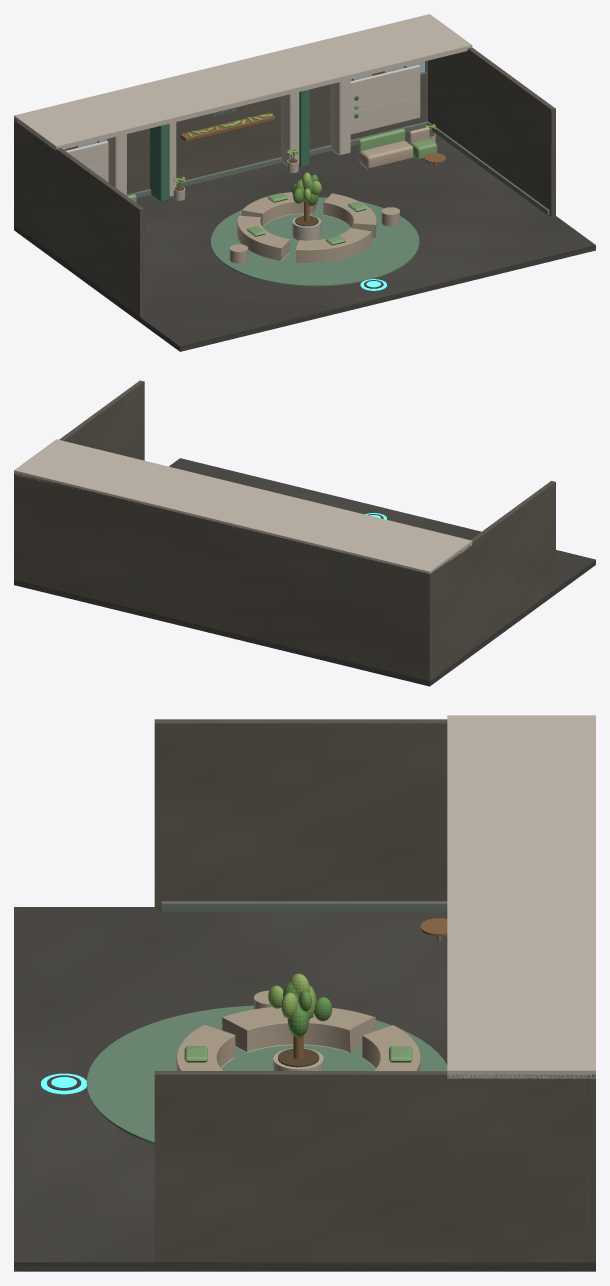
The model's file is student-hall.glb.
The picture shows the model from 3 angles, top to bottom: view 1: azimuth 30°, elevation 25°; view 2: azimuth 150°, elevation 25°; view 3: azimuth 270°, elevation 25°; orthographic projection. The views are drawn at different scales.
Visible parts, largest first — view 1: Floor, CeilingBack, LeftWall, RightWall, BackWall, RoundRug, ClubBoard, CurvedBench_3, Column.003, SagePier, CurvedBench_2, BackBaseboard (+12 smaller); view 2: BackWall, CeilingBack, LeftWall, Floor, RightWall; view 3: RightWall, Floor, CeilingBack, LeftWall, RoundRug, CurvedBench_2, LeftBaseboard, CurvedBench_3, CurvedBench_1, BackWall.
Part boxes in pixels (x1,y1,x2,y2): Floor: (14, 130, 595, 351); CeilingBack: (14, 14, 472, 150); LeftWall: (16, 122, 144, 316); RightWall: (428, 47, 555, 216); BackWall: (14, 60, 427, 226); RoundRug: (211, 197, 419, 286); ClubBoard: (350, 64, 420, 134); CurvedBench_3: (295, 228, 371, 262); Column.003: (330, 79, 350, 155); SagePier: (150, 123, 169, 201); CurvedBench_2: (237, 215, 289, 260); BackBaseboard: (127, 121, 427, 198); BackWall: (14, 473, 432, 680); CeilingBack: (14, 439, 472, 573); LeftWall: (431, 481, 555, 679); Floor: (14, 458, 595, 686); RightWall: (59, 380, 144, 460); RightWall: (154, 1071, 590, 1262); Floor: (14, 907, 595, 1271); CeilingBack: (447, 715, 595, 1078); LeftWall: (154, 719, 447, 910); RoundRug: (86, 1005, 447, 1144); CurvedBench_2: (222, 1007, 375, 1052); LeftBaseboard: (161, 901, 447, 911); CurvedBench_3: (176, 1024, 235, 1070); CurvedBench_1: (361, 1025, 420, 1070); BackWall: (587, 1074, 595, 1262).
Size of the model in its own units: 26 by 6.86 by 18.
19 materials, 2 textured.
